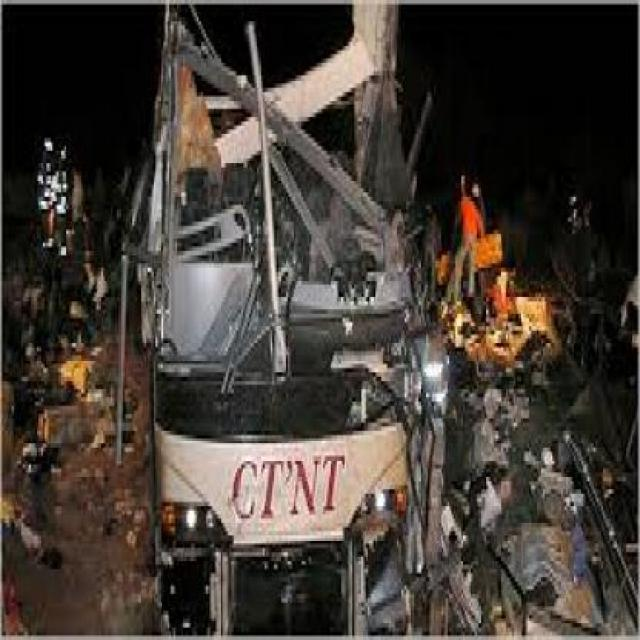accident: (86, 0, 491, 640)
